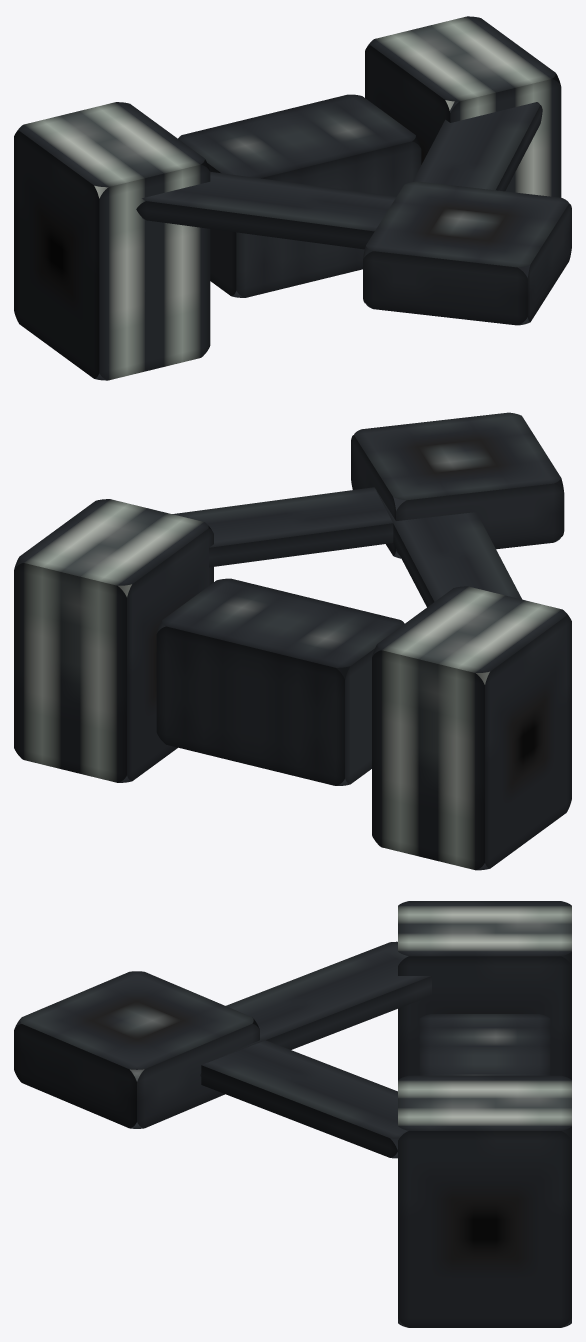
File: singleAxelLeadingTruckFrame.obj
The picture shows the model from 3 angles, top to bottom: view 1: azimuth 30°, elevation 25°; view 2: azimuth 150°, elevation 25°; view 3: azimuth 270°, elevation 25°; orthographic projection.
Parts seen in each view (by area): view 1: cube; view 2: cube; view 3: cube.
Boxes of the visible parts, box(x1,y1,x2,y2) form: cube: box(14, 16, 571, 380); cube: box(14, 412, 571, 870); cube: box(14, 901, 571, 1327).
Bounding box in the file's own units: 1.56 × 0.625 × 1.6.
